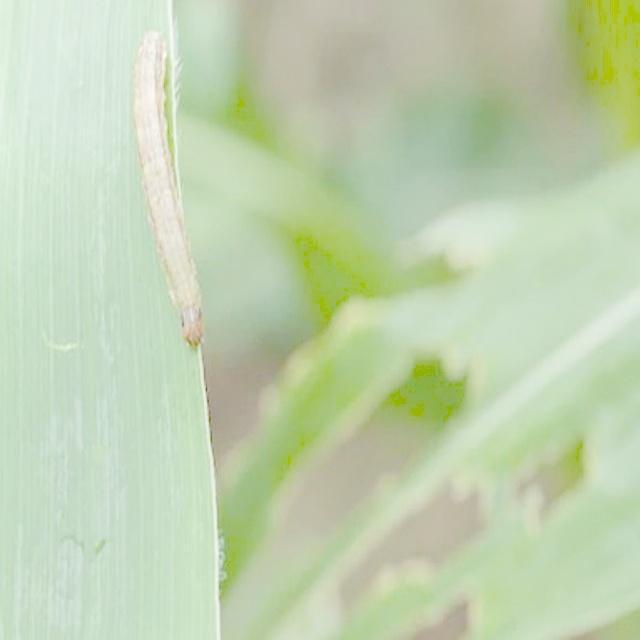gusano_cogollero: (136, 31, 206, 354)
